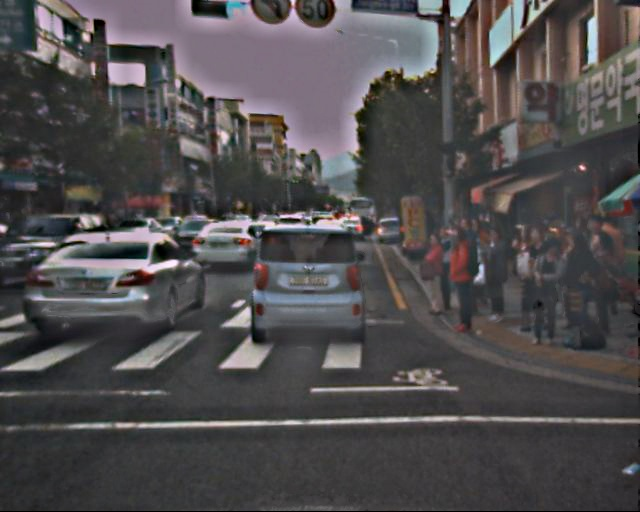person: (579, 233, 622, 337), (440, 227, 482, 330), (527, 243, 568, 342), (554, 225, 595, 324), (512, 227, 550, 320), (477, 230, 514, 320), (417, 233, 449, 312)
